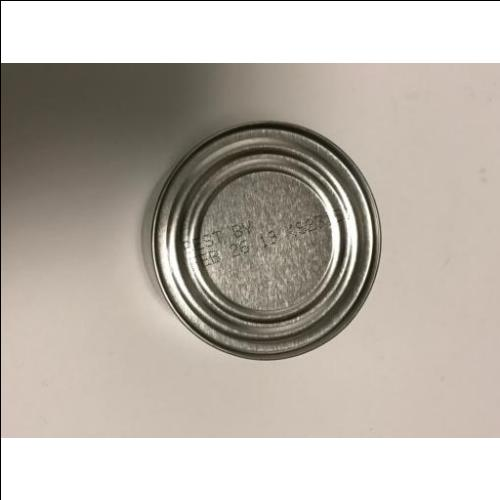metal: (147, 120, 380, 361)
